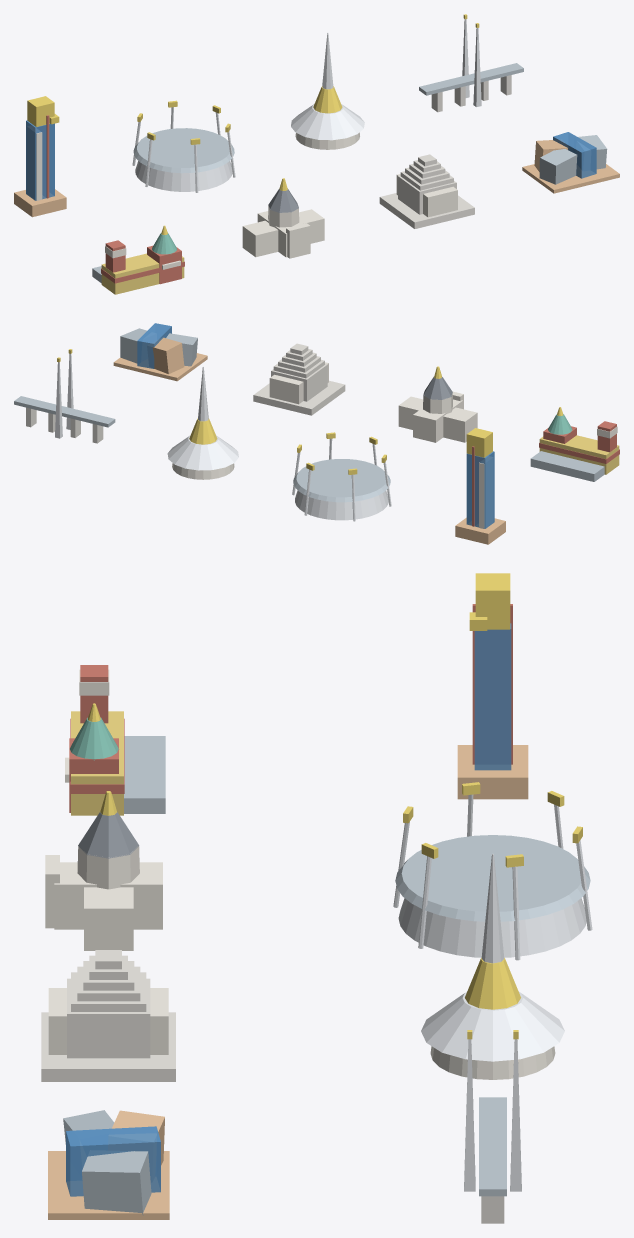
File: melbourne_monuments.glb
The picture shows the model from 3 angles, top to bottom: view 1: azimuth 30°, elevation 25°; view 2: azimuth 150°, elevation 25°; view 3: azimuth 270°, elevation 25°; orthographic projection. The views are drawn at different scales.
Visible parts, largest first — view 1: MCG_Roof_Rim, Arts_Tutu_Lower_Skirt, MCG_Outer_Bowl, Rex_Great_Nave, Eureka_Cobalt_Shaft, Flinders_Concourse_Body, Shrine_Terrace_Steps, FedSq_ACMI_Shard, Bolte_Highway_Deck, FedSq_Cobble_Deck, FedSq_Glass_Atrium, Eureka_Podium (+16 smaller); view 2: MCG_Roof_Rim, Arts_Tutu_Lower_Skirt, MCG_Outer_Bowl, Eureka_Cobalt_Shaft, Rex_Great_Nave, Flinders_Platform_Canopies, Shrine_Terrace_Steps, Flinders_Concourse_Body, Bolte_Highway_Deck, Rex_Transept, FedSq_Sandstone_Wing, FedSq_Glass_Atrium (+20 smaller); view 3: MCG_Roof_Rim, Arts_Tutu_Lower_Skirt, MCG_Outer_Bowl, Eureka_Cobalt_Shaft, Shrine_Sanctuary_Cube, Shrine_Terrace_Steps, Rex_Transept, FedSq_NGV_East_Shard, FedSq_Glass_Atrium, Flinders_Platform_Canopies, FedSq_Cobble_Deck, Rex_Great_Nave (+20 smaller).
Part boxes in pixels (bbox=[...]): MCG_Roof_Rim: bbox=[133, 128, 234, 173]; Arts_Tutu_Lower_Skirt: bbox=[291, 104, 364, 140]; MCG_Outer_Bowl: bbox=[135, 161, 232, 191]; Rex_Great_Nave: bbox=[242, 209, 324, 257]; Eureka_Cobalt_Shaft: bbox=[26, 120, 54, 200]; Flinders_Concourse_Body: bbox=[101, 253, 184, 294]; Shrine_Terrace_Steps: bbox=[379, 193, 474, 228]; FedSq_ACMI_Shard: bbox=[539, 149, 577, 184]; Bolte_Highway_Deck: bbox=[419, 63, 523, 95]; FedSq_Cobble_Deck: bbox=[522, 164, 619, 193]; FedSq_Glass_Atrium: bbox=[553, 132, 596, 178]; Eureka_Podium: bbox=[14, 189, 66, 217]; MCG_Roof_Rim: bbox=[293, 459, 390, 502]; Arts_Tutu_Lower_Skirt: bbox=[167, 435, 238, 470]; MCG_Outer_Bowl: bbox=[295, 490, 388, 520]; Eureka_Cobalt_Shaft: bbox=[466, 451, 494, 528]; Rex_Great_Nave: bbox=[398, 396, 477, 442]; Flinders_Platform_Canopies: bbox=[530, 451, 604, 481]; Shrine_Terrace_Steps: bbox=[253, 380, 345, 415]; Flinders_Concourse_Body: bbox=[539, 435, 619, 474]; Bolte_Highway_Deck: bbox=[14, 396, 115, 427]; Rex_Transept: bbox=[413, 399, 462, 442]; FedSq_Sandstone_Wing: bbox=[152, 337, 184, 374]; FedSq_Glass_Atrium: bbox=[137, 323, 171, 368]; MCG_Roof_Rim: bbox=[395, 835, 590, 921]; Arts_Tutu_Lower_Skirt: bbox=[421, 991, 564, 1061]; MCG_Outer_Bowl: bbox=[398, 898, 586, 957]; Eureka_Cobalt_Shaft: bbox=[474, 623, 511, 770]; Shrine_Sanctuary_Cube: bbox=[67, 978, 150, 1058]; Shrine_Terrace_Steps: bbox=[41, 1012, 175, 1081]; Rex_Transept: bbox=[54, 862, 162, 929]; FedSq_NGV_East_Shard: bbox=[82, 1151, 151, 1215]; FedSq_Glass_Atrium: bbox=[66, 1126, 160, 1196]; Flinders_Platform_Canopies: bbox=[124, 736, 165, 813]; FedSq_Cobble_Deck: bbox=[48, 1151, 169, 1219]; Rex_Great_Nave: bbox=[84, 887, 133, 950].
Size of the model in its own units: 35.83 by 6.97 by 17.21.
